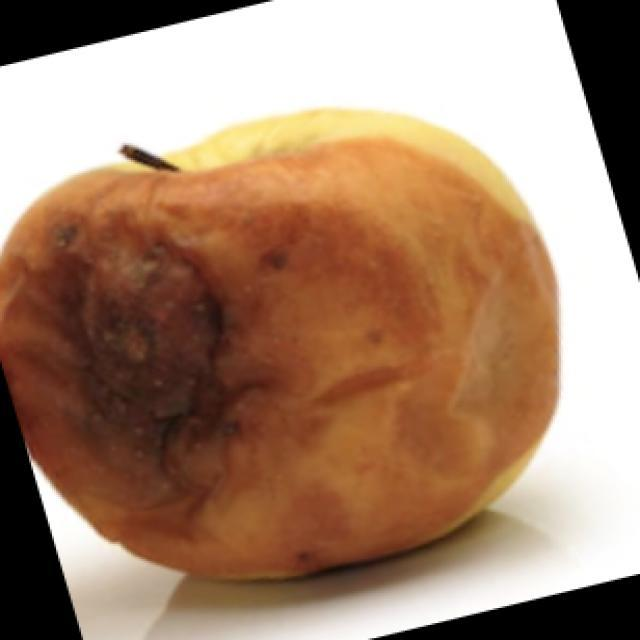Rotten: (5, 122, 555, 580)
